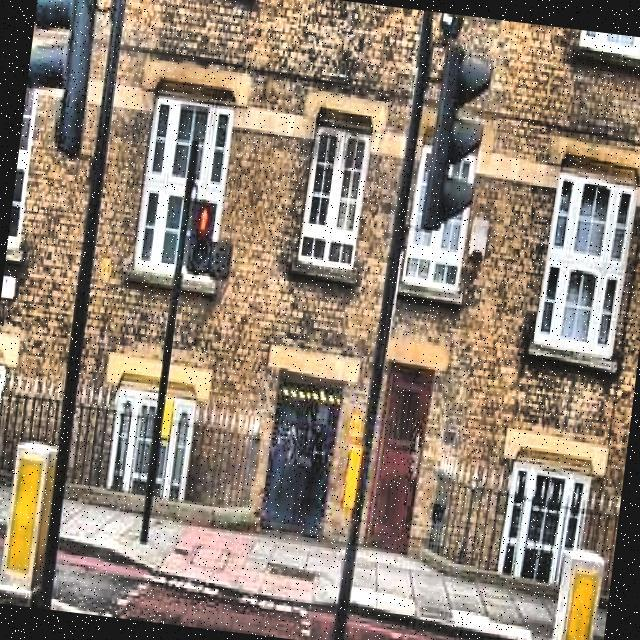red_light: (197, 204, 210, 232)
